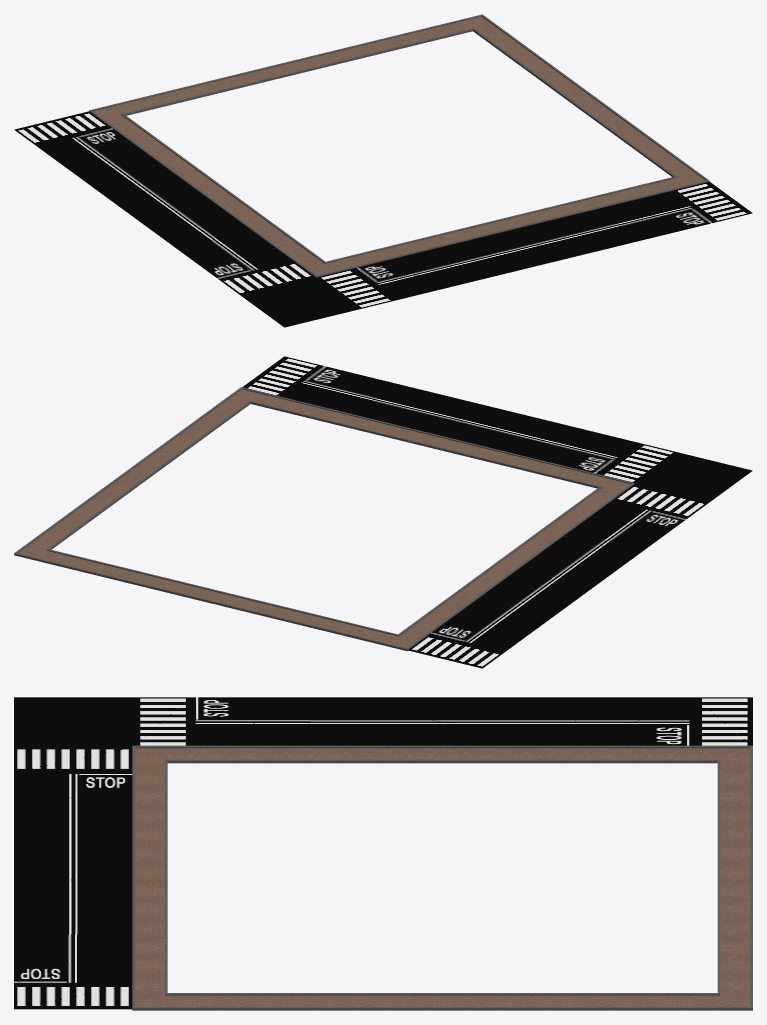
File: Street_01.fbx
3 renders of one model, top to bottom at view 1: azimuth 30°, elevation 25°; view 2: azimuth 150°, elevation 25°; view 3: azimuth 270°, elevation 25°, orthographic. The views are drawn at different scales.
Visible parts, largest first — view 1: road, sidewalk; view 2: road, sidewalk; view 3: road, sidewalk.
Boxes of the visible parts, x1,y1,x2,y2 form: road: (14,111,752,327); sidewalk: (89,14,709,277); road: (242,356,752,668); sidewalk: (14,387,634,651); road: (14,697,752,1009); sidewalk: (132,745,752,1010).
Bounding box in the file's own units: 5000 × 20 × 5000.
Materials: 3 (3 with a texture image).
